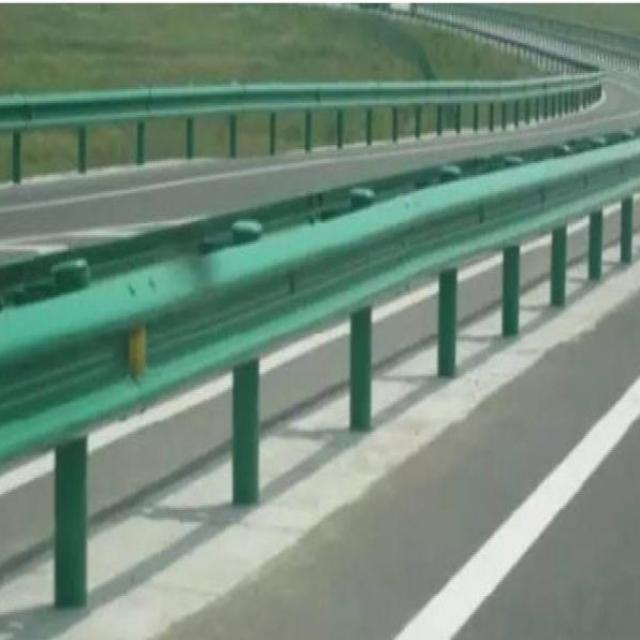Guard rail: (0, 140, 640, 465), (0, 70, 602, 182)
